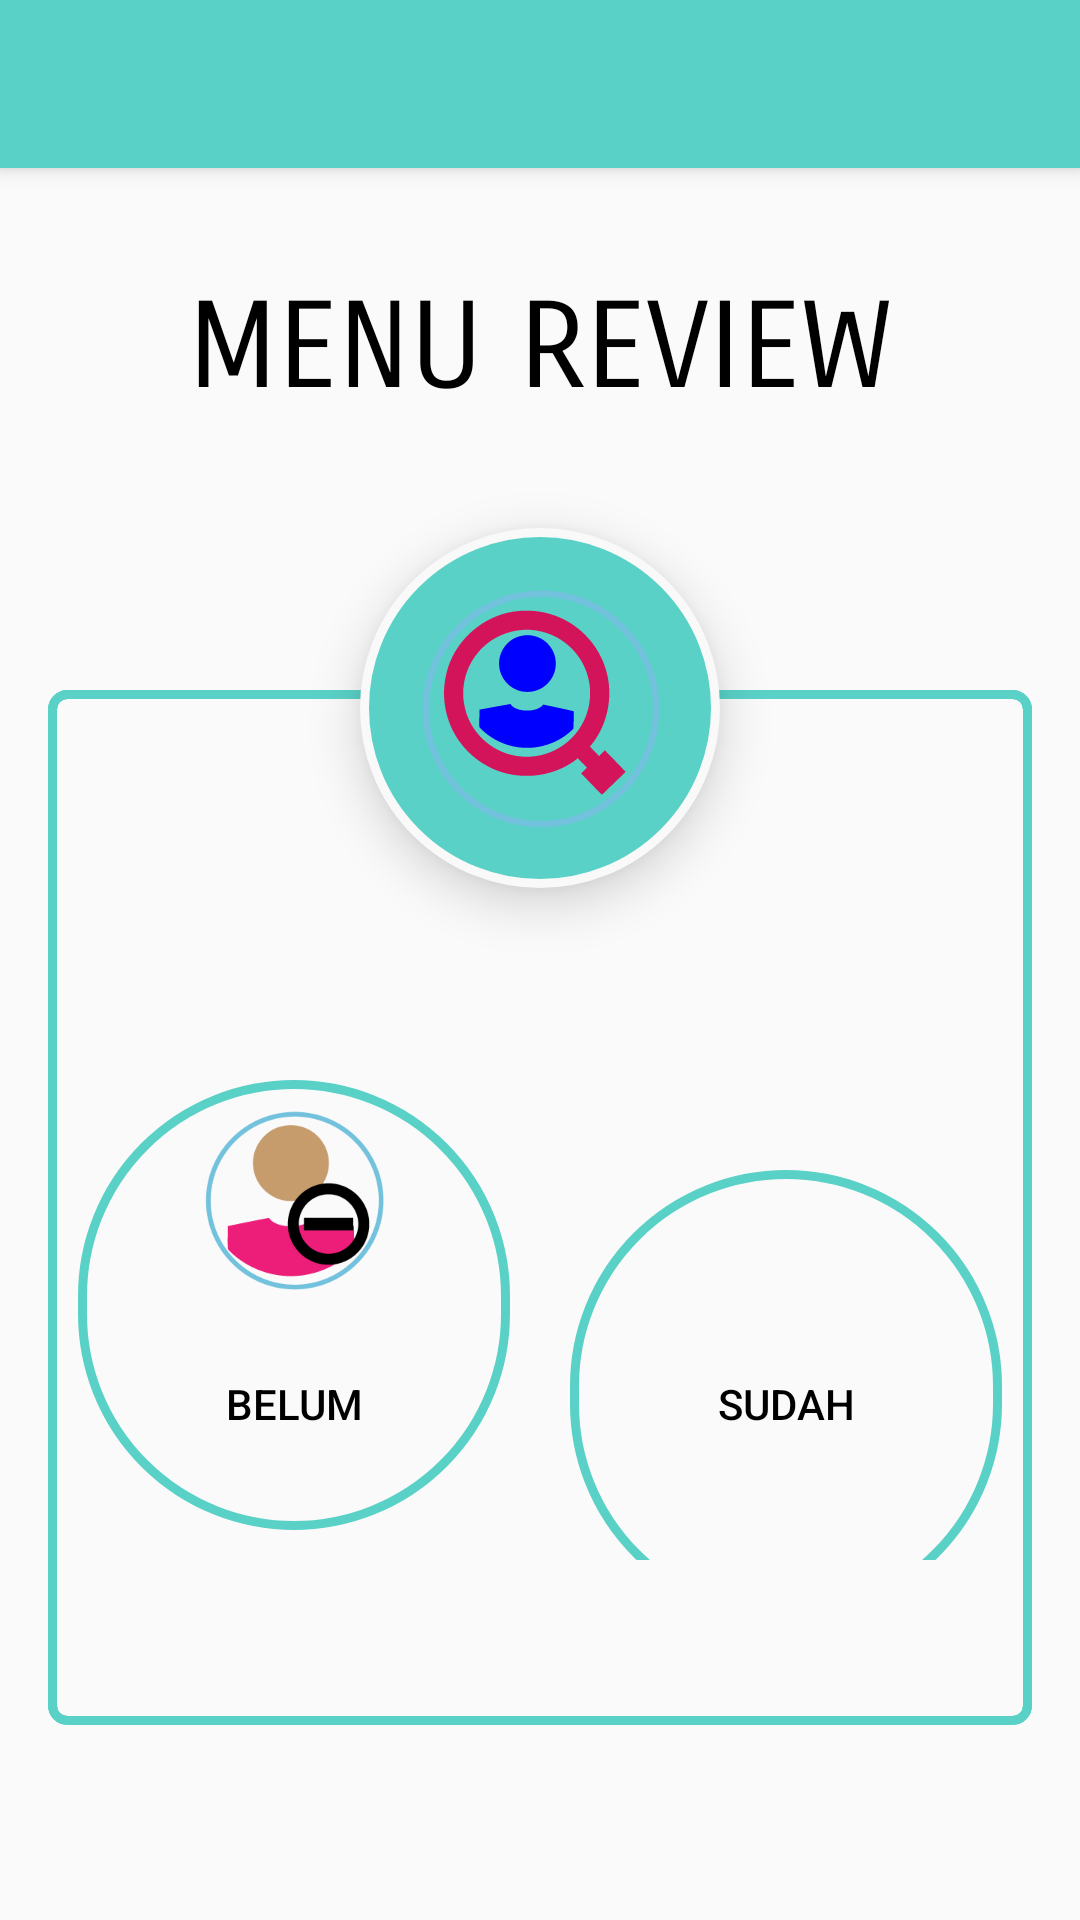

Icon click points for this 1080×1920 phone screenshot, format (x,y):
lihat data pelanggan: (540,708)
